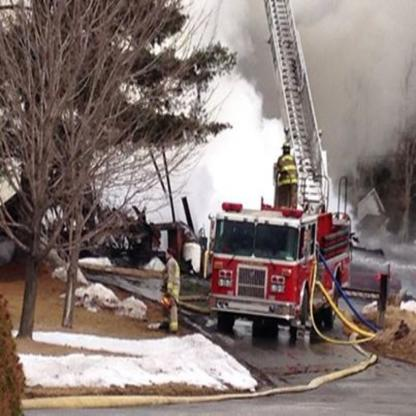Truck: (207, 175, 351, 334)
